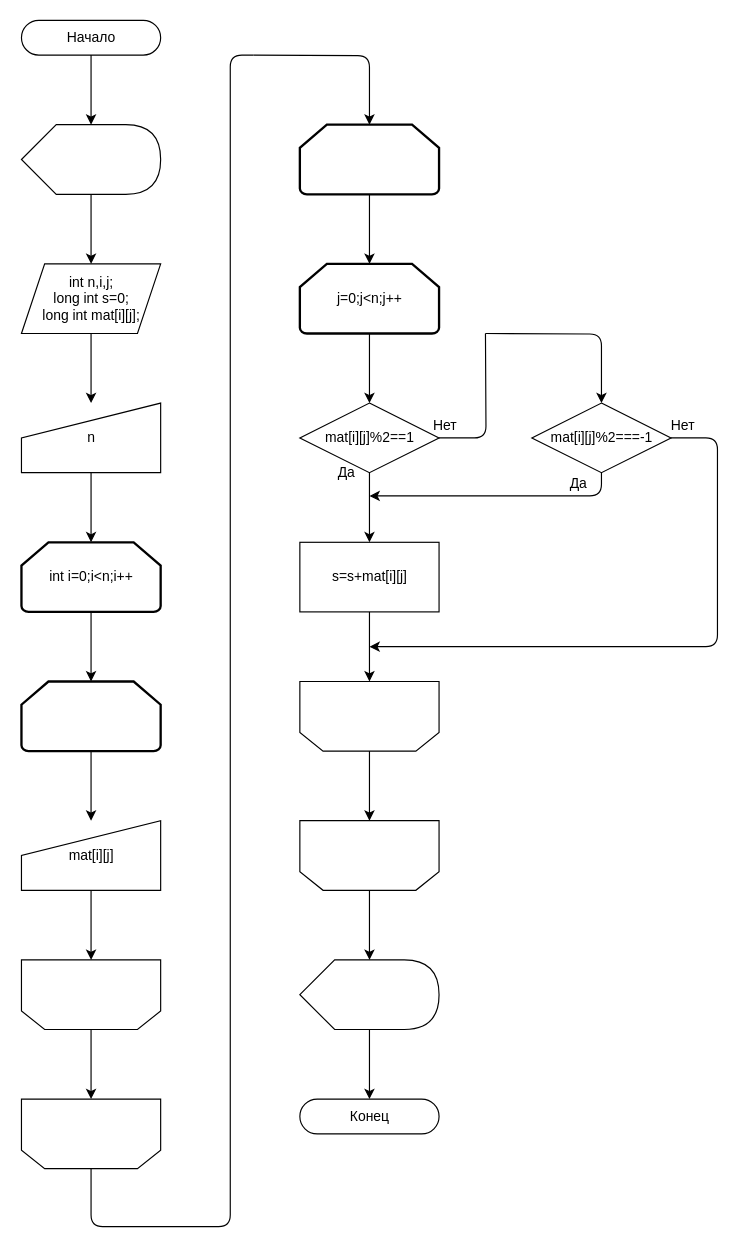
The diagram is 747 pixels wide and 1248 high, and some of its shapes have lost their labels. Each missing label, with the box of its shape:
"Введите желаемый размер матрицы": (20, 124, 161, 194)
"Сумма нечетных элементов", s: (299, 959, 439, 1030)
i=0;i<n;i++: (298, 123, 440, 195)
int j=0;j<n;j++: (20, 680, 161, 752)
